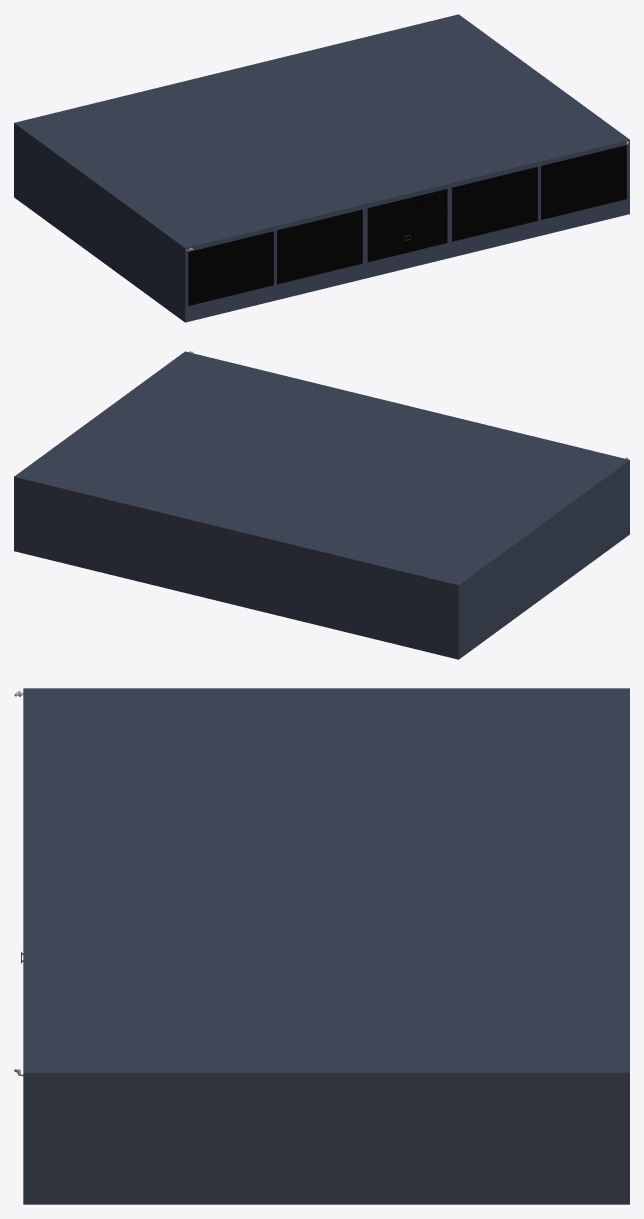
File: store toy.fbx
3 renders of one model, top to bottom at view 1: azimuth 30°, elevation 25°; view 2: azimuth 150°, elevation 25°; view 3: azimuth 270°, elevation 25°, orthographic. The views are drawn at different scales.
Parts seen in each view (by area): view 1: pCube2, pCube1, pCube25, pCube27, pCube24, pCube28, pCube26, pCube38, pCube37; view 2: pCube2, pCube1; view 3: pCube2, pCube1.
Part boxes in pixels (box(x1,y1,x2,y2)): pCube2: box(14, 14, 629, 252); pCube1: box(14, 128, 629, 322); pCube25: box(277, 209, 362, 284); pCube27: box(541, 145, 626, 219); pCube24: box(188, 231, 273, 305); pCube28: box(452, 167, 537, 241); pCube26: box(367, 189, 447, 261); pCube38: box(392, 220, 407, 256); pCube37: box(407, 217, 422, 252); pCube2: box(14, 351, 629, 589); pCube1: box(14, 465, 629, 659); pCube2: box(23, 688, 629, 1080); pCube1: box(23, 1081, 629, 1204).
Size of the model in its own units: 30 by 4.82 by 20.31.
